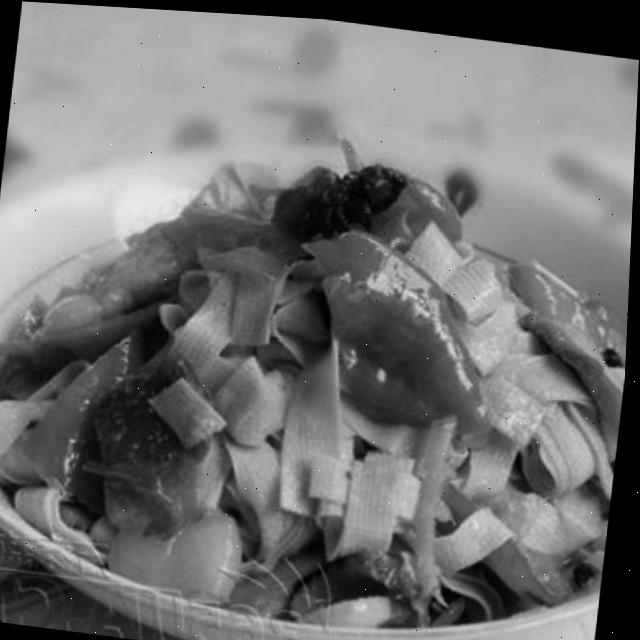豆腐料理: (0, 87, 637, 640)
